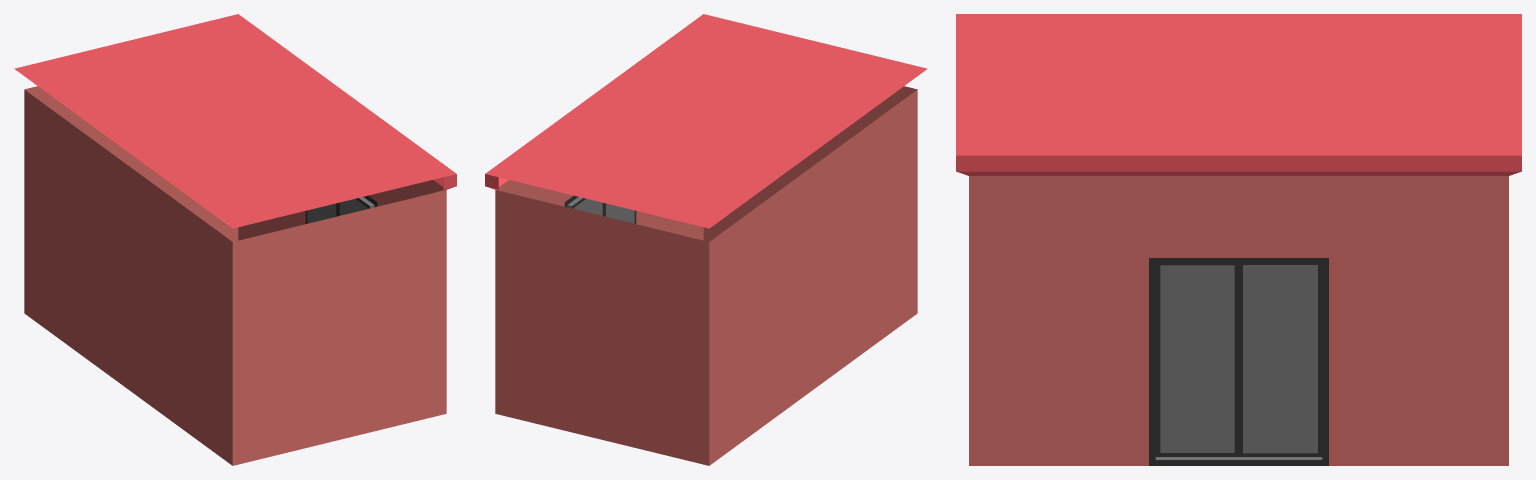
Rendered from house2.fbx.
3 views of the same model, side by side, from view 1: azimuth 30°, elevation 25°; view 2: azimuth 150°, elevation 25°; view 3: azimuth 270°, elevation 25° (orthographic). The views are drawn at different scales.
Visible parts, largest first — view 1: Cube; view 2: Cube; view 3: Cube.
Boxes of the visible parts, x1,y1,x2,y2 form: Cube: [14, 14, 456, 465]; Cube: [485, 14, 927, 465]; Cube: [956, 14, 1521, 465].
Bounding box in the file's own units: 210 × 216 × 354.
